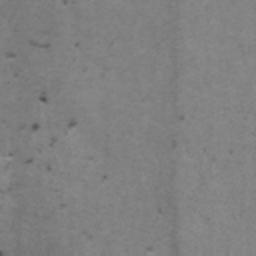Oxide scale of temperature system: (31, 122, 58, 146), (24, 157, 52, 174), (27, 38, 51, 50), (37, 91, 50, 105), (4, 50, 18, 59), (68, 118, 78, 129), (178, 113, 186, 123), (73, 41, 82, 49), (100, 174, 109, 182), (59, 0, 70, 6)
